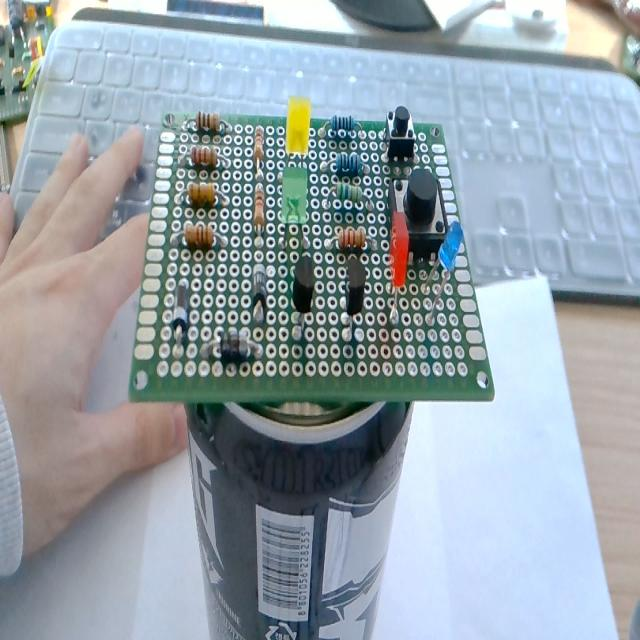diode: (169, 270, 203, 356), (202, 329, 268, 368), (248, 262, 274, 332)
led: (424, 228, 464, 316), (281, 169, 313, 250), (387, 217, 410, 325), (280, 98, 312, 168)
resistor: (174, 184, 238, 220), (181, 144, 237, 179), (172, 227, 232, 257), (323, 182, 377, 214), (182, 110, 234, 142), (326, 228, 376, 257), (318, 116, 367, 144), (321, 153, 371, 178), (253, 182, 269, 239), (254, 119, 266, 178)
switch: (386, 168, 450, 263), (380, 102, 420, 155)
transistor: (294, 250, 318, 356), (337, 265, 367, 337)
